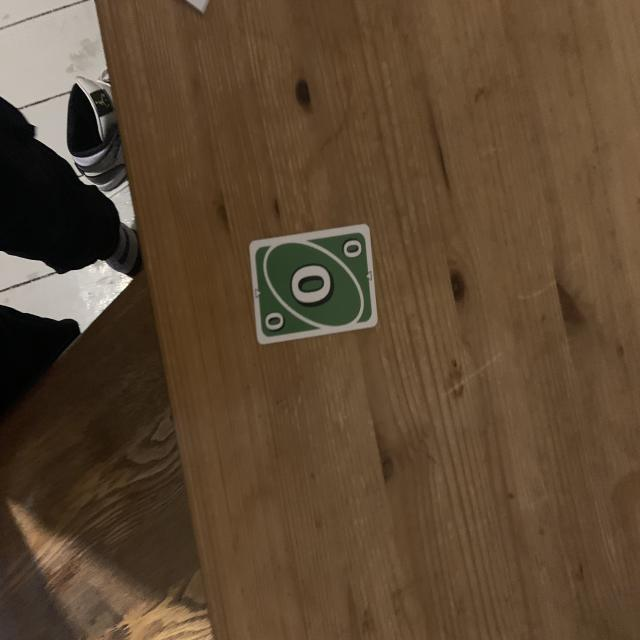lgreen-0: (338, 234, 367, 266)
